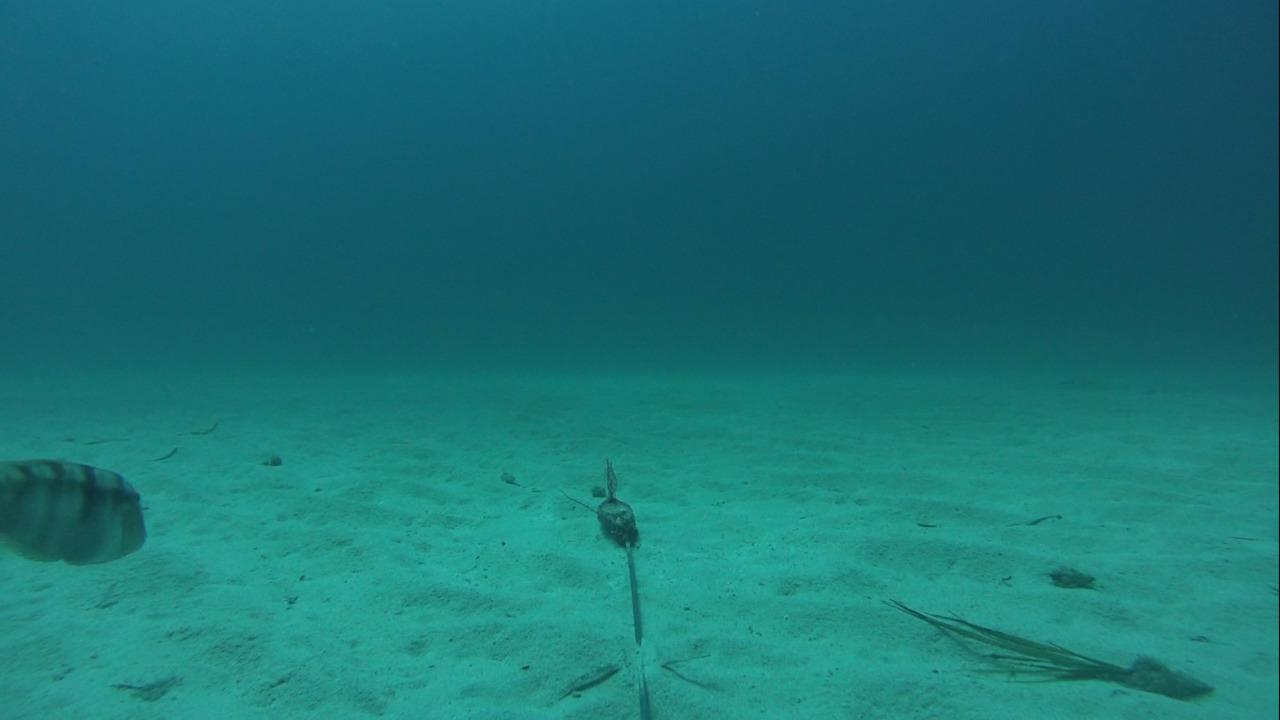raor: (0, 457, 153, 566)
